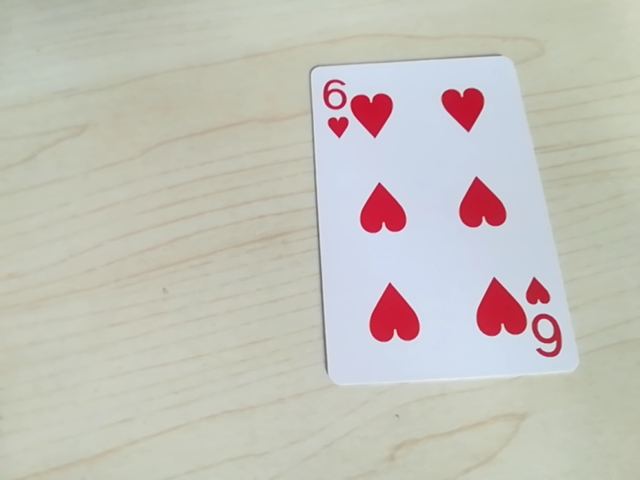hx 6: (525, 294, 566, 364), (316, 75, 359, 140)
